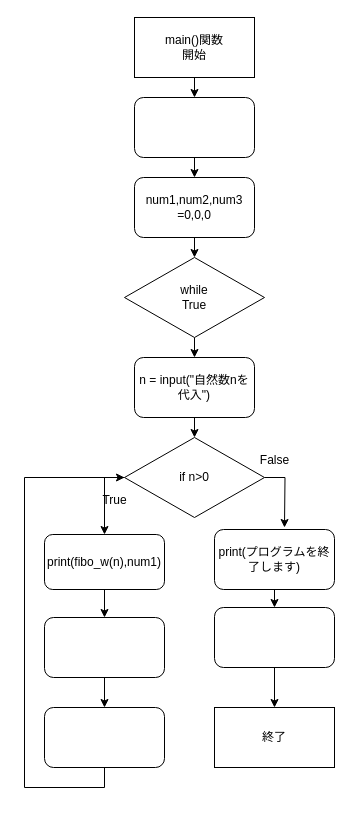
Image size: 352x813. Some labels were removed from this diagram. Here are the shapes that lost their labels. From the top down, the centre of each, then its label:
point 194,127: global num1,num2, num3
point 104,647: print(fibo_m(n-1),num2)
point 274,637: break
point 104,737: print(fibo_tr(n),num3)
